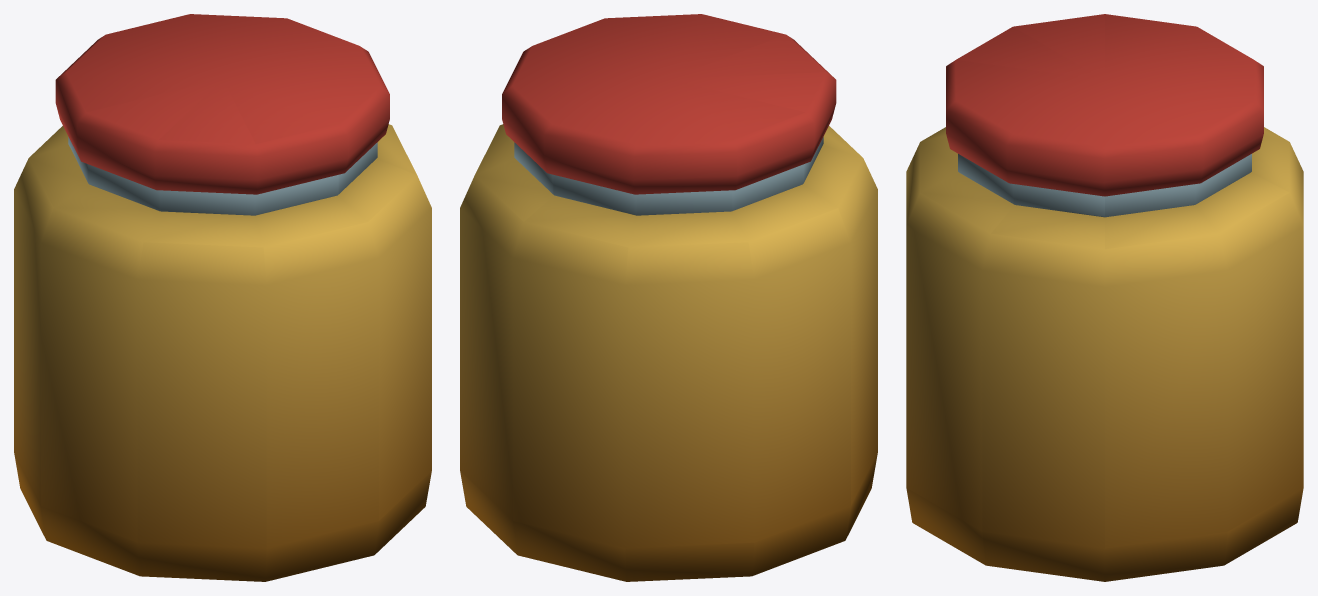
File: prop.honey_jar.glb
3 renders of one model, left to right at view 1: azimuth 30°, elevation 25°; view 2: azimuth 150°, elevation 25°; view 3: azimuth 270°, elevation 25°, orthographic.
Parts seen in each view (by area): view 1: honey_jar; view 2: honey_jar; view 3: honey_jar.
Boxes of the visible parts, <box> form: honey_jar: <box>14,14,431,581</box>; honey_jar: <box>460,14,877,581</box>; honey_jar: <box>906,14,1303,581</box>.
Bounding box in the file's own units: 0.44 × 0.4968 × 0.4185.
